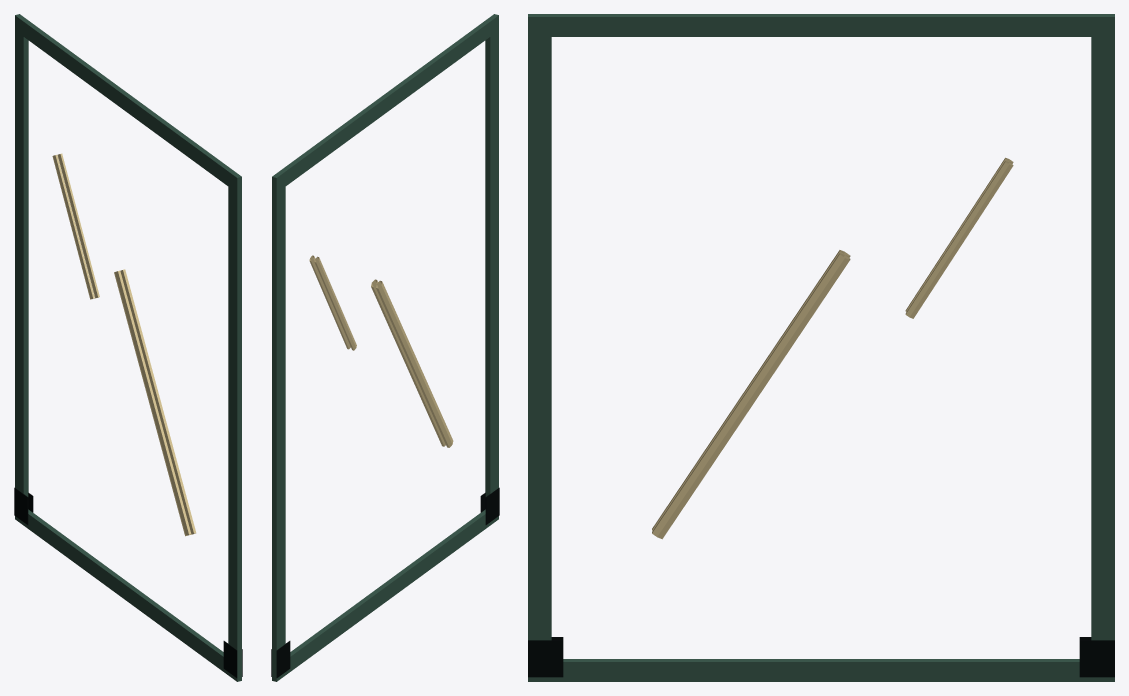
File: panel_tank_glass.fbx
3 renders of one model, left to right at view 1: azimuth 30°, elevation 25°; view 2: azimuth 150°, elevation 25°; view 3: azimuth 270°, elevation 25°, orthographic. The views are drawn at different scales.
Visible parts, largest first — view 1: Part_0; view 2: Part_0; view 3: Part_0.
Boxes of the visible parts, box(x1,y1,x2,y2) form: Part_0: box(14, 14, 242, 681); Part_0: box(271, 14, 499, 681); Part_0: box(528, 14, 1114, 681).
Size of the model in its own units: 0.13 by 6.5 by 5.2.
